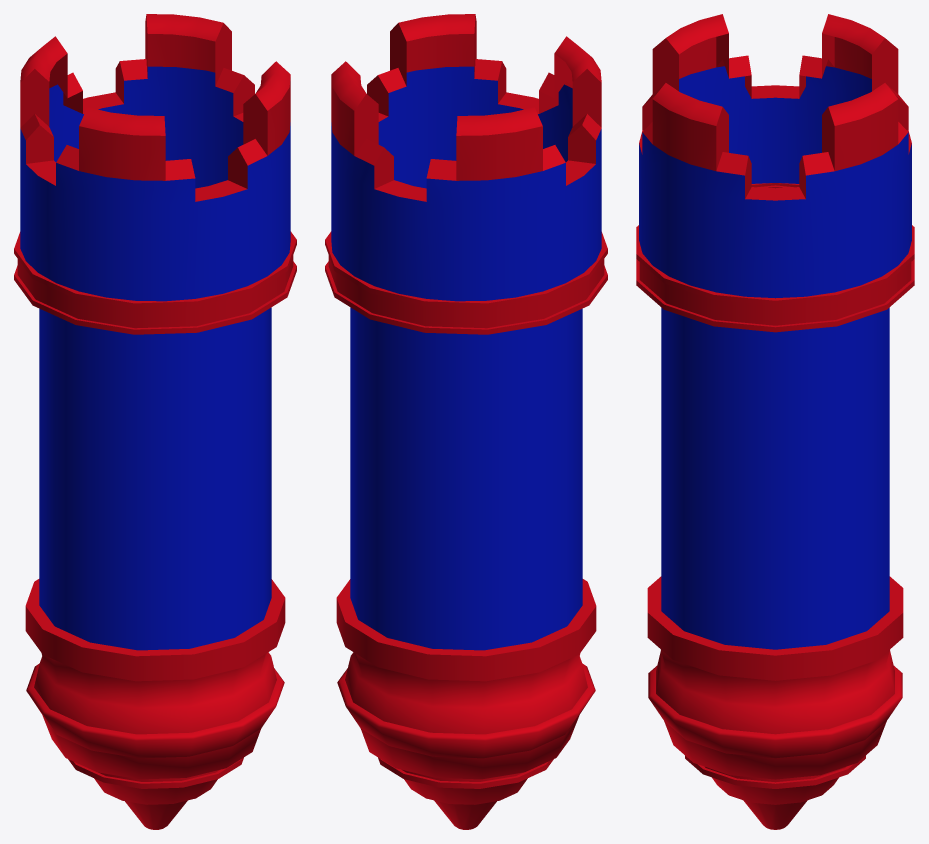
Rendered from Tower_mini (2).fbx.
The picture shows the model from 3 angles, left to right: view 1: azimuth 30°, elevation 25°; view 2: azimuth 150°, elevation 25°; view 3: azimuth 270°, elevation 25°; orthographic projection.
Visible parts, largest first — view 1: Group_2.000; view 2: Group_2.000; view 3: Group_2.000.
Part boxes in pixels (box(x1,y1,x2,y2)): Group_2.000: box(14, 14, 296, 829); Group_2.000: box(325, 14, 607, 829); Group_2.000: box(636, 14, 914, 829).
Size of the model in its own units: 279 by 827 by 272.
